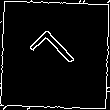L_SE: (26, 26, 84, 84)
